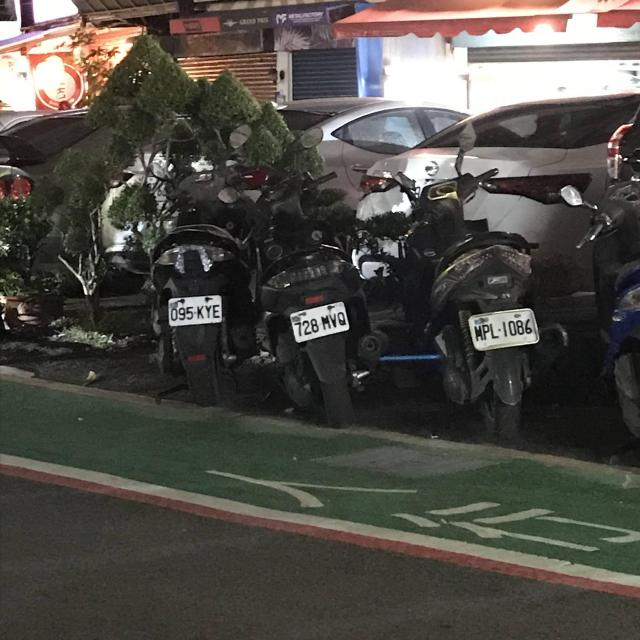W: (463, 301, 543, 352), (284, 297, 356, 343), (160, 291, 230, 329), (588, 0, 638, 12)
